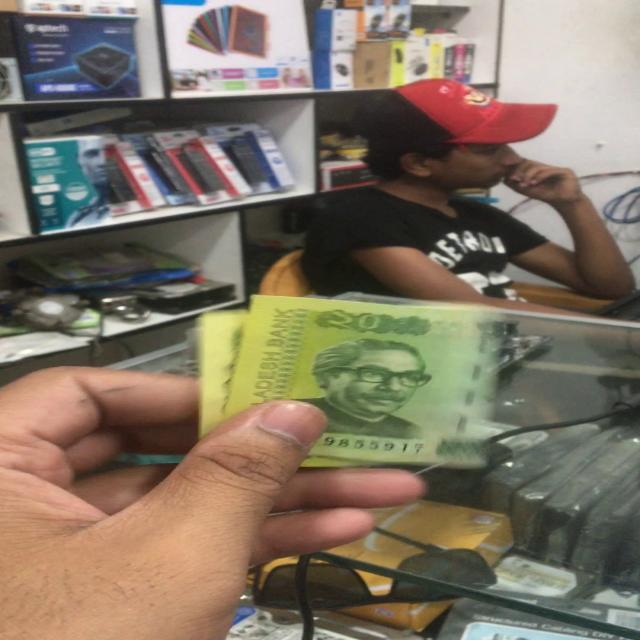Taka: (200, 296, 510, 472)
